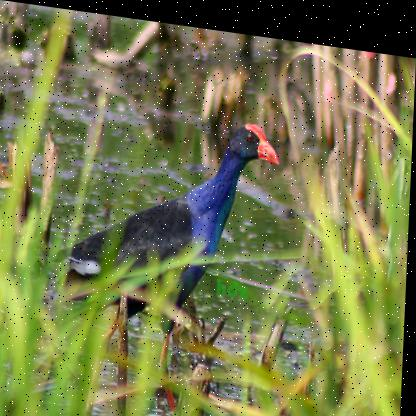Burung: (58, 95, 284, 411)
